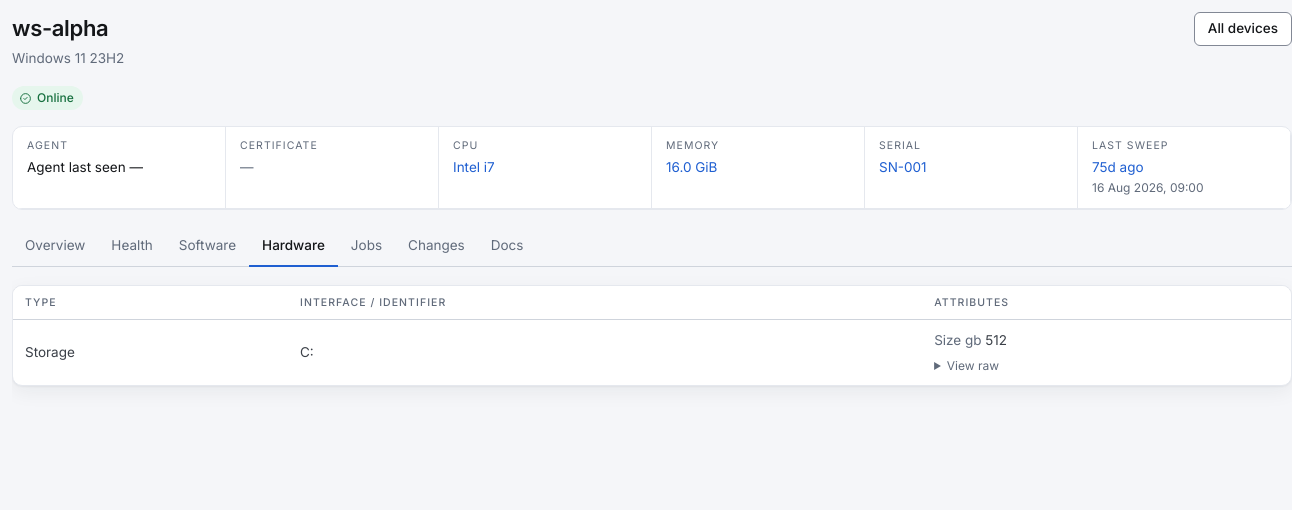
Test: DeviceDetailPage › switches to the software tab and filters client-side
expect the heading "ws-alpha" is shown: met, box [12,12,124,45]
Click the tab "Software" at [207, 246], box [166,226,249,267]
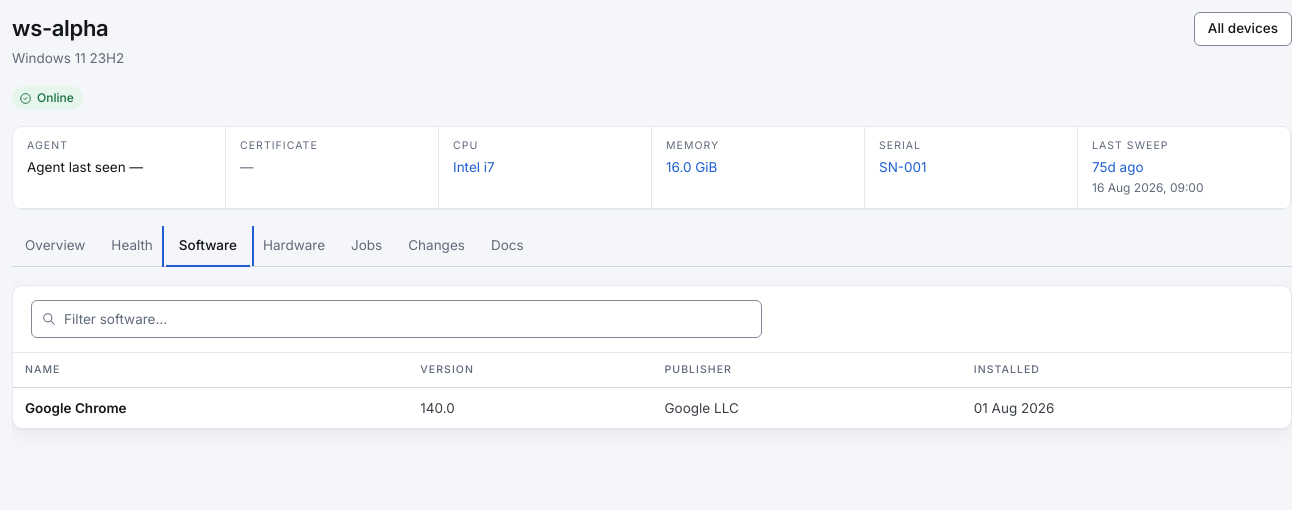
expect the text "Google Chrome" is shown: met, box [13,387,408,428]
Type "zzz-no-match" into the field labelled "Filter software" at [396, 319], box [31,300,762,338]
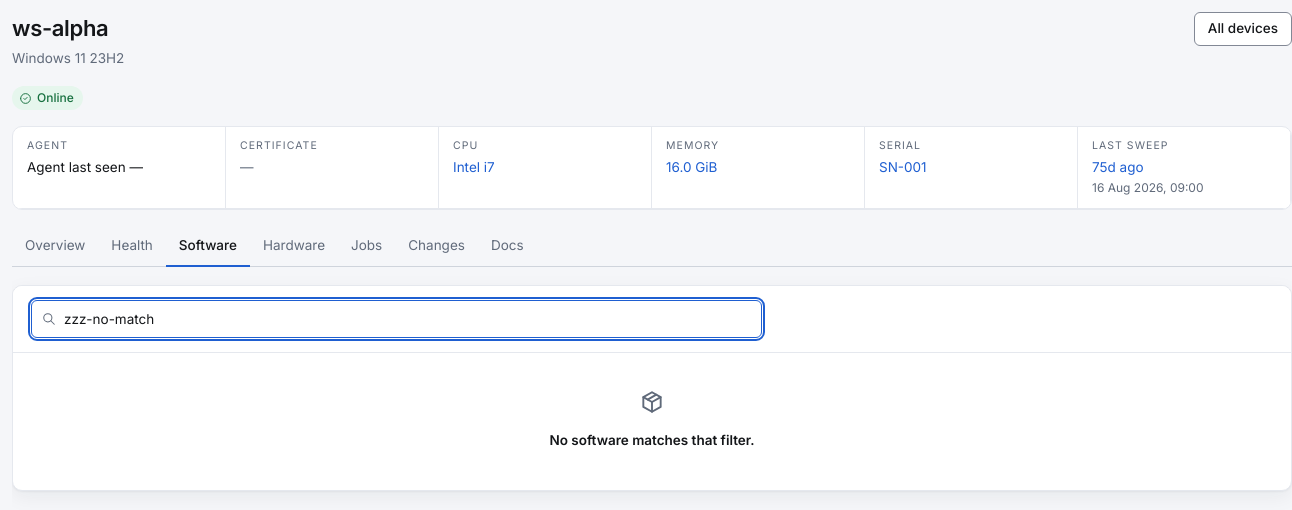
expect the text "No software matches that filter." is shown: met, box [549,432,755,448]
